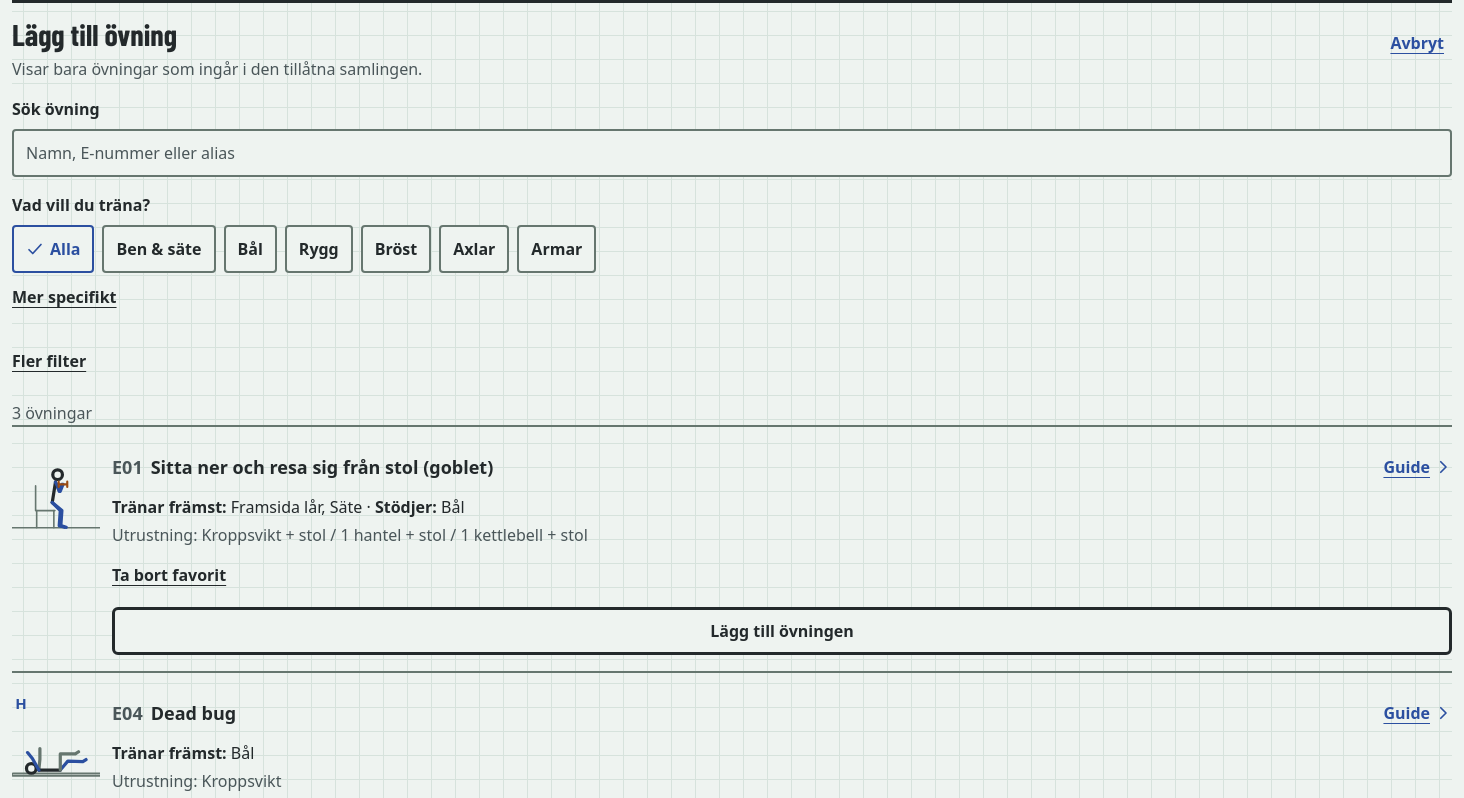
Scenario: ExercisePicker › filters by broad body region and preserves primary/supporting labels
This screenshot has width=1464, height=798.
Click the button "Ben & säte" at point(159, 249), box left=102, top=225, right=216, bottom=273
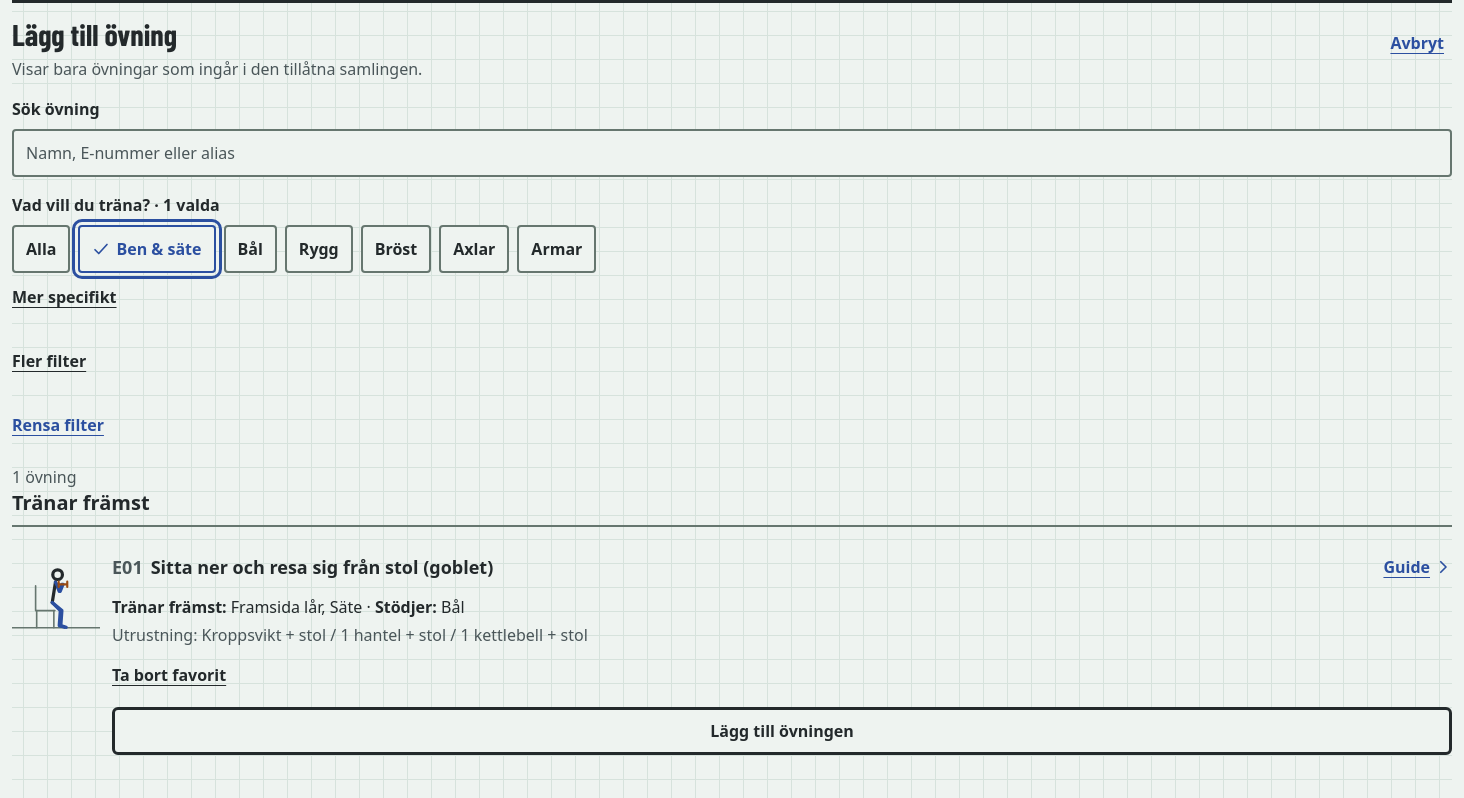
Check: the list item shows "Tränar främst: Framsida lår, Säte", box left=12, top=525, right=1452, bottom=771
Check: the message reads "1 övning", box left=12, top=466, right=77, bottom=488
Check: the heading "Dead bug" is gone
